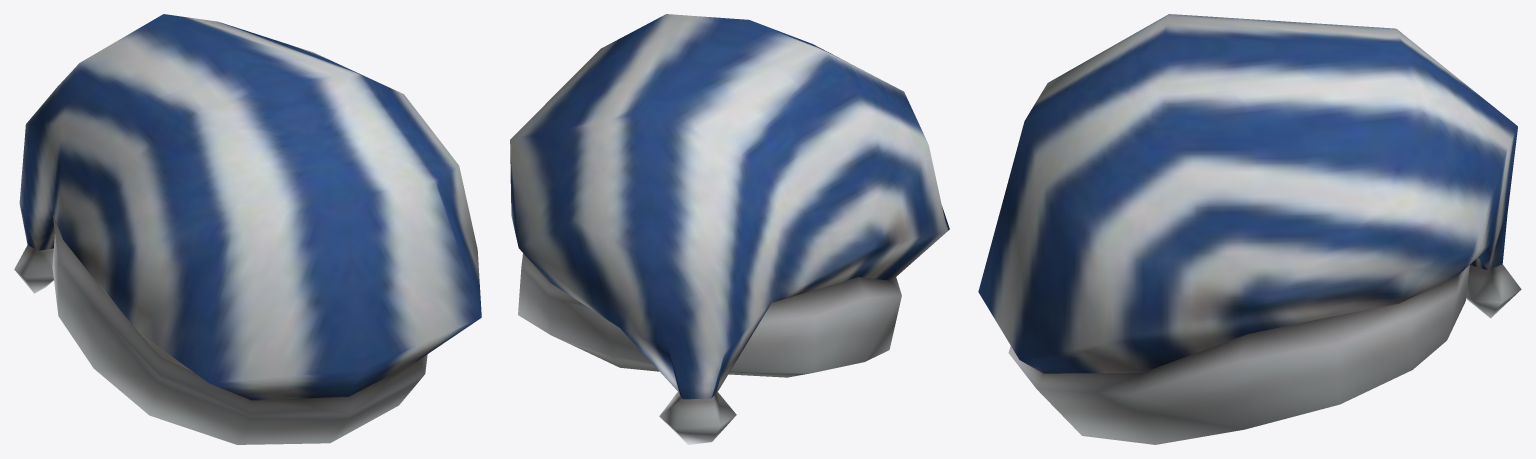
File: sleepHat.glb
The picture shows the model from 3 angles, left to right: view 1: azimuth 30°, elevation 25°; view 2: azimuth 150°, elevation 25°; view 3: azimuth 270°, elevation 25°; orthographic projection. The views are drawn at different scales.
Visible parts, largest first — view 1: sleepHat; view 2: sleepHat; view 3: sleepHat.
Part boxes in pixels (x1,y1,x2,y2): sleepHat: (14, 14, 481, 444); sleepHat: (510, 14, 949, 444); sleepHat: (978, 14, 1521, 444).
Size of the model in its own units: 0.2922 by 0.2649 by 0.364.
1 material, 1 textured.
